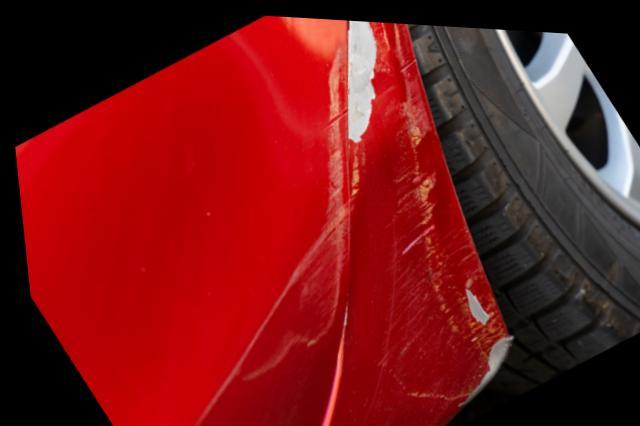scratch: (182, 16, 505, 426)
